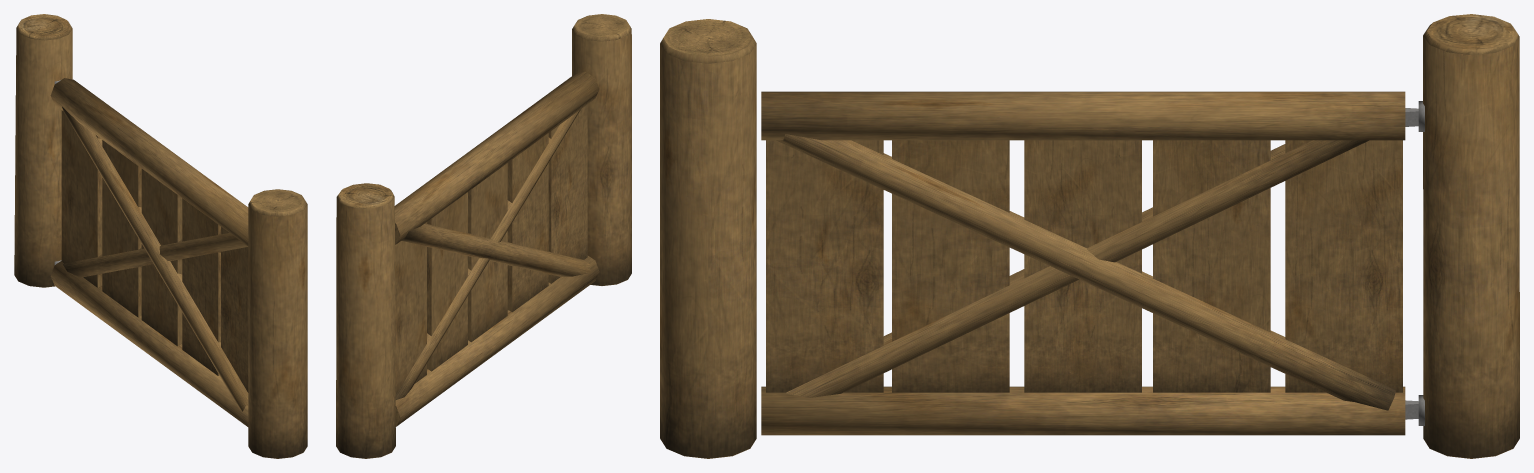
Rendered from FenceLow_Wood_GateB01.fbx.
The picture shows the model from 3 angles, left to right: view 1: azimuth 30°, elevation 25°; view 2: azimuth 150°, elevation 25°; view 3: azimuth 270°, elevation 25°; orthographic projection. The views are drawn at different scales.
Parts seen in each view (by area): view 1: GateAnimated, GateStatic; view 2: GateAnimated, GateStatic; view 3: GateAnimated, GateStatic.
Part boxes in pixels (x1,y1,x2,y2): GateAnimated: (50,78,248,426); GateStatic: (14,14,307,458); GateAnimated: (394,71,599,426); GateStatic: (336,14,631,458); GateAnimated: (761,91,1418,435); GateStatic: (660,14,1519,458).
Bounding box in the file's own units: 22.51 × 104 × 200.
